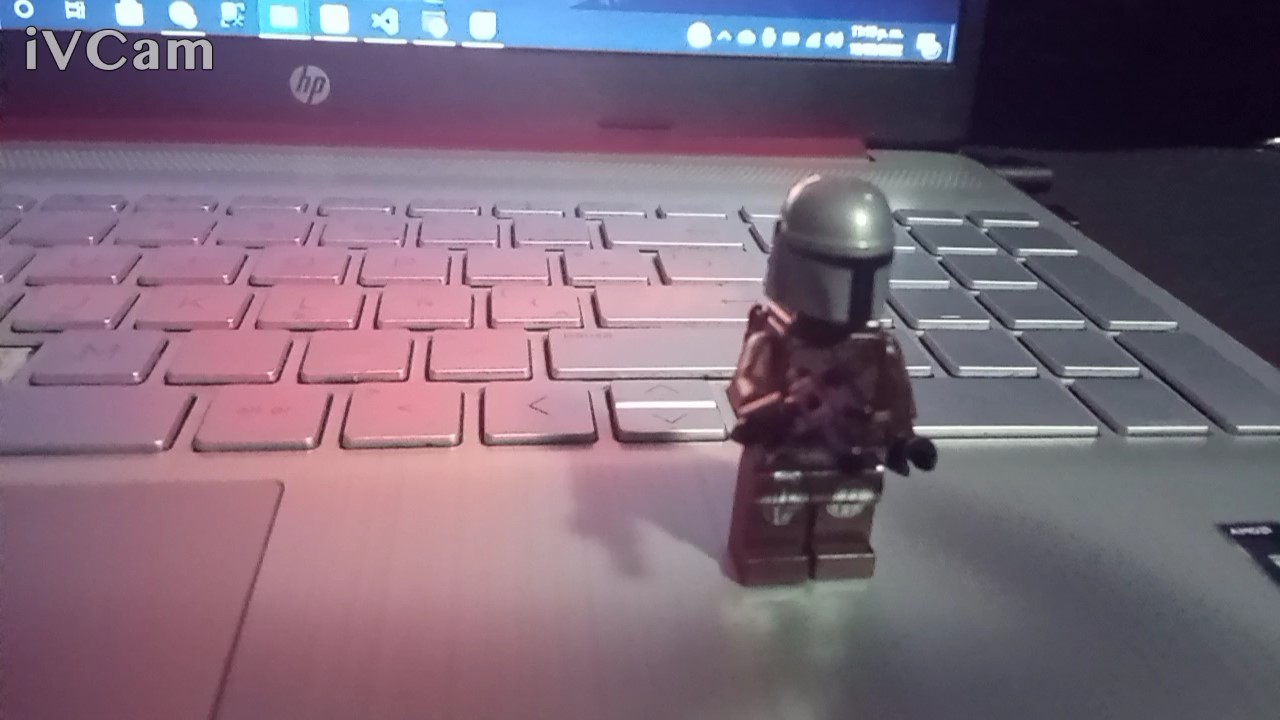mandalorian: (697, 165, 943, 611)
